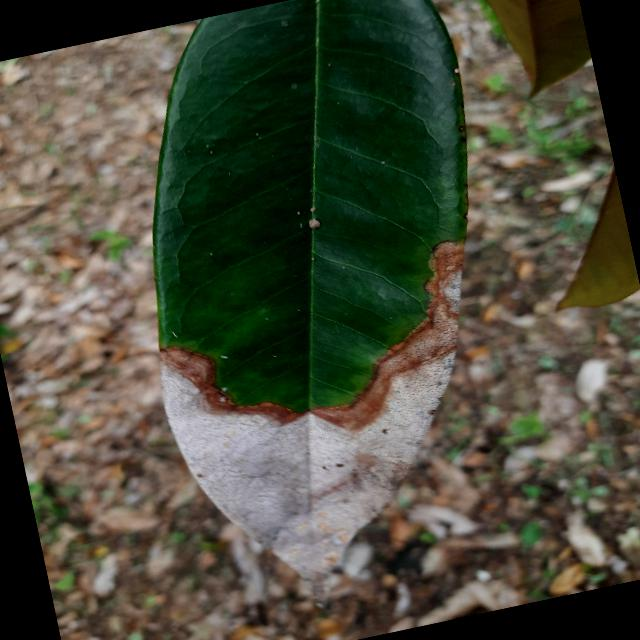Leaf Blight: (78, 0, 564, 616)
